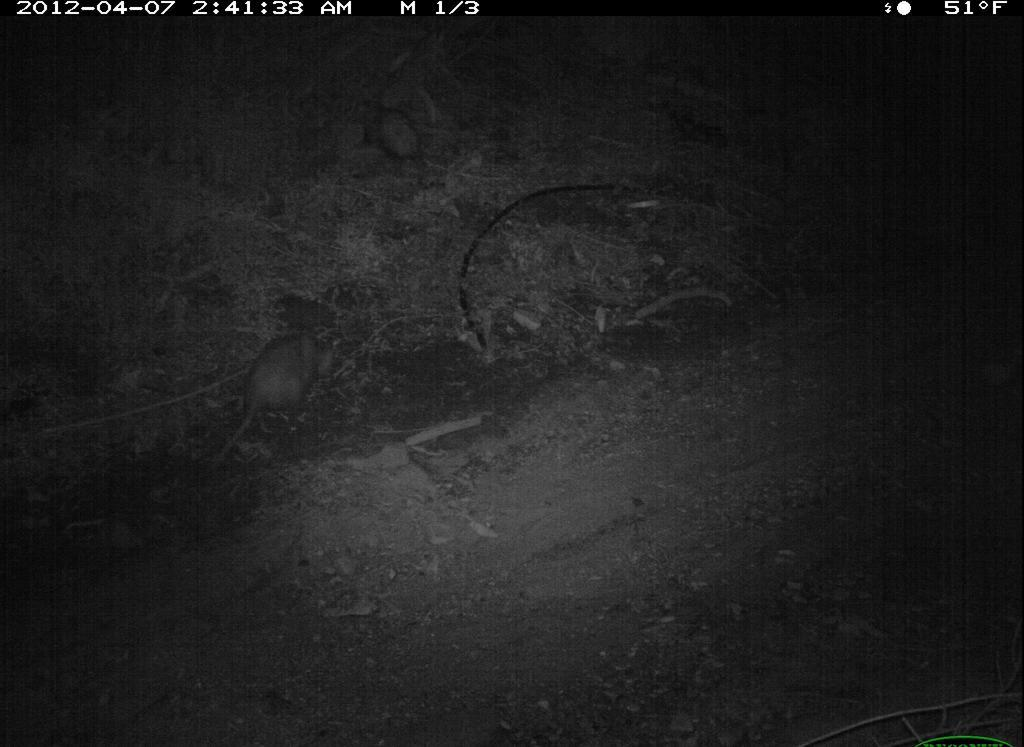opossum: (189, 324, 348, 472), (361, 99, 435, 193)
